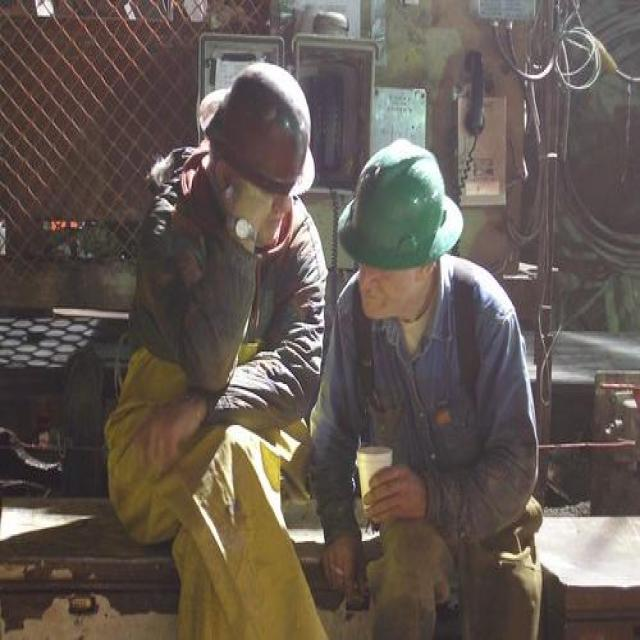Safety-Helmet: (331, 130, 468, 278), (202, 51, 320, 203)
